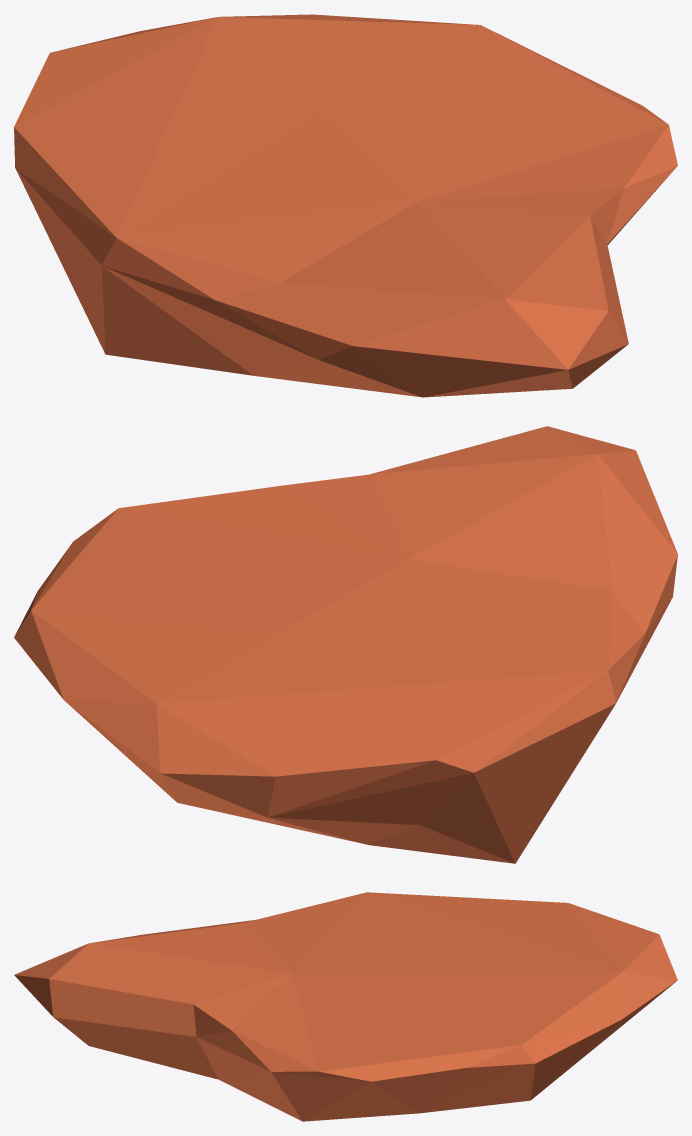
Rendered from Path_tile_5.glb.
The picture shows the model from 3 angles, top to bottom: view 1: azimuth 30°, elevation 25°; view 2: azimuth 150°, elevation 25°; view 3: azimuth 270°, elevation 25°; orthographic projection. The views are drawn at different scales.
Parts seen in each view (by area): view 1: Path_tile_05; view 2: Path_tile_05; view 3: Path_tile_05.
Boxes of the visible parts, <box> form: Path_tile_05: <box>14,14,677,397</box>; Path_tile_05: <box>14,426,677,863</box>; Path_tile_05: <box>14,892,677,1121</box>.
Bounding box in the file's own units: 0.1527 × 0.0521 × 0.2207.
